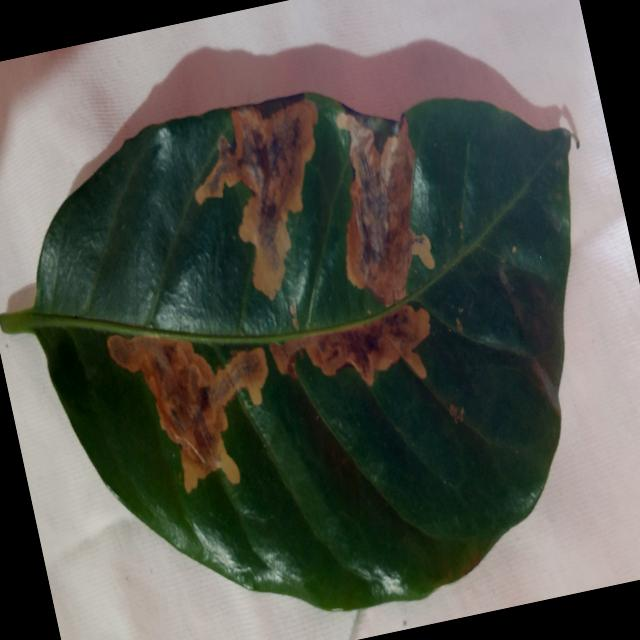KaratDaunKopi: (107, 335, 267, 492), (195, 101, 317, 299), (336, 113, 416, 305), (270, 304, 429, 385), (412, 234, 434, 269), (449, 403, 464, 423), (455, 317, 462, 332)
